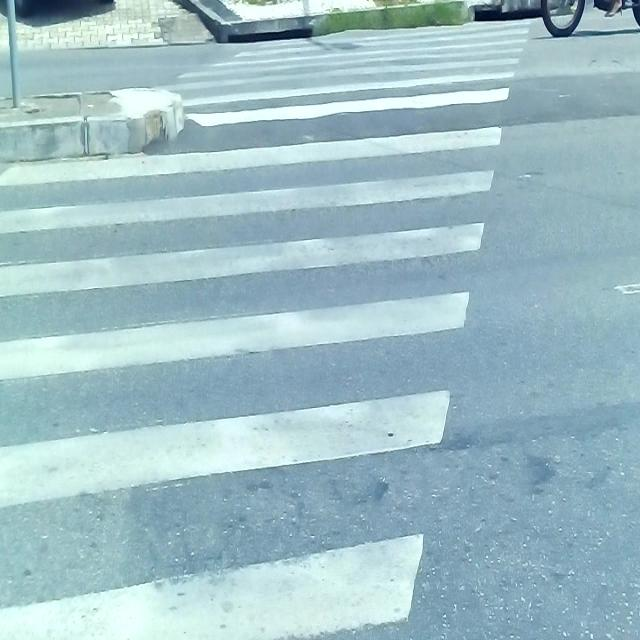crosswalk: (0, 18, 536, 640)
